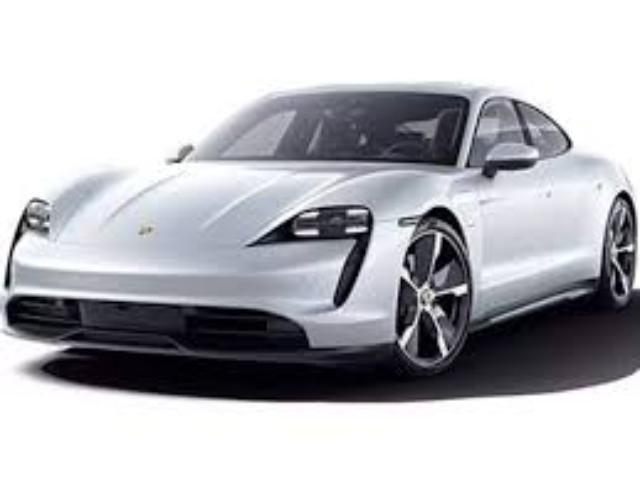porsche: (0, 80, 638, 378)
